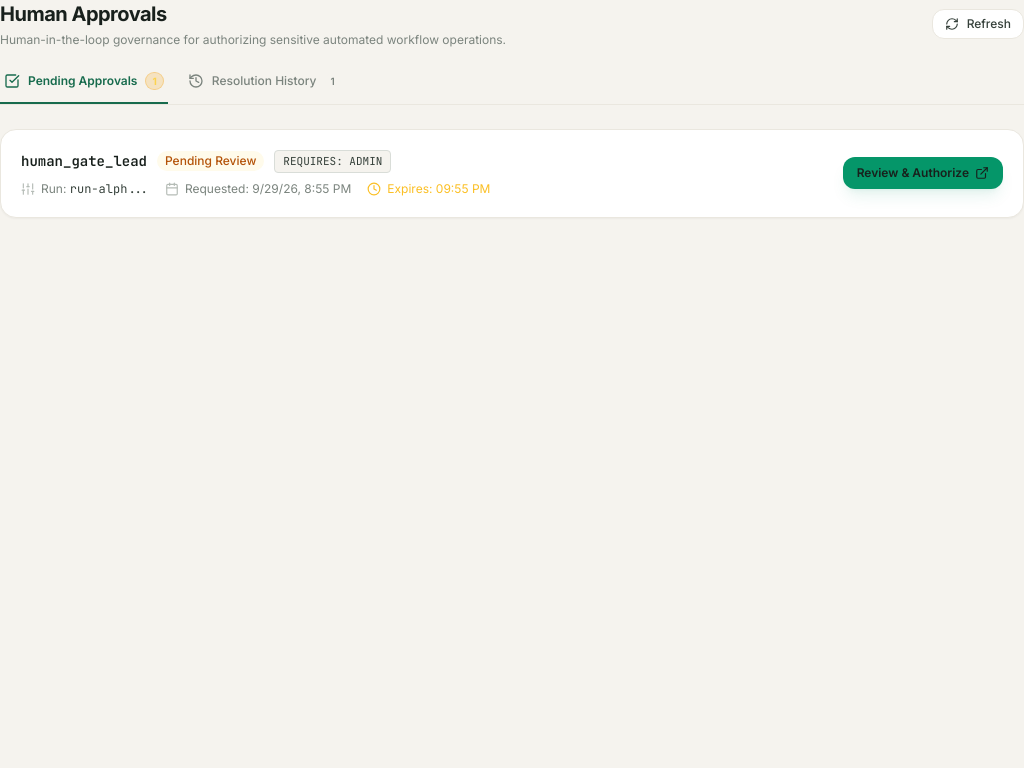
Approvals Module Tests › disables approval actions if active role is below required role
Expected: the text "human_gate_lead" is shown, [21,151,147,171]
Click the button "Review & Authorize": click(923, 173) [843,157,1003,189]
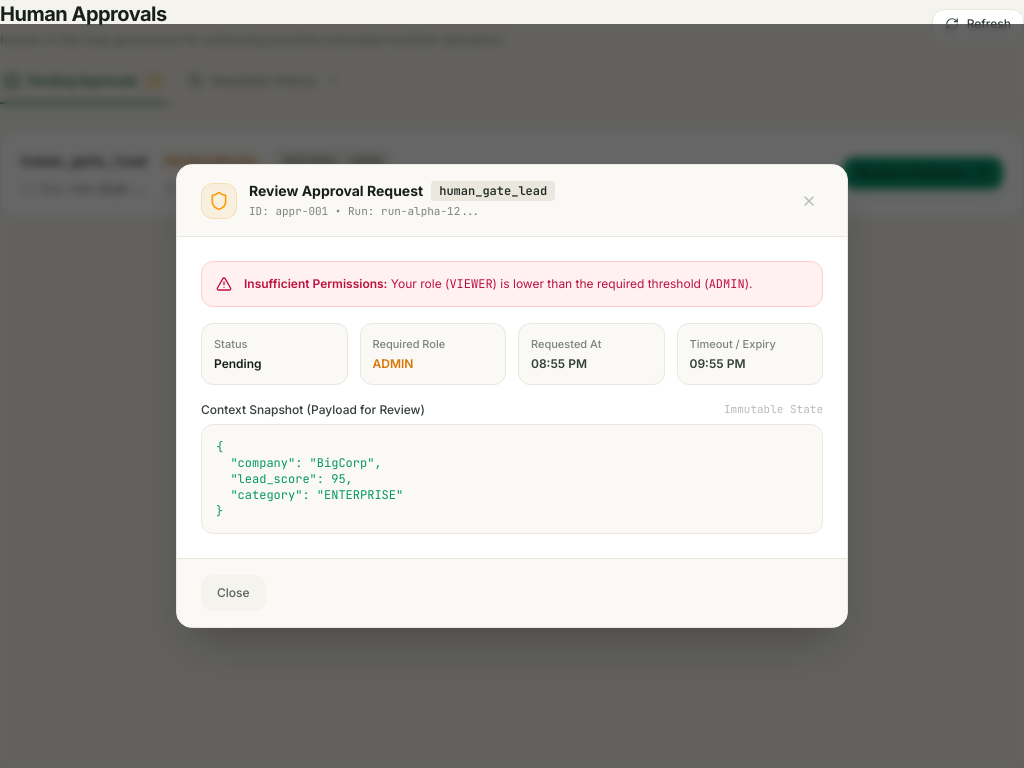
Now the text "Insufficient Permissions:" is shown, box [244,276,388,291]
